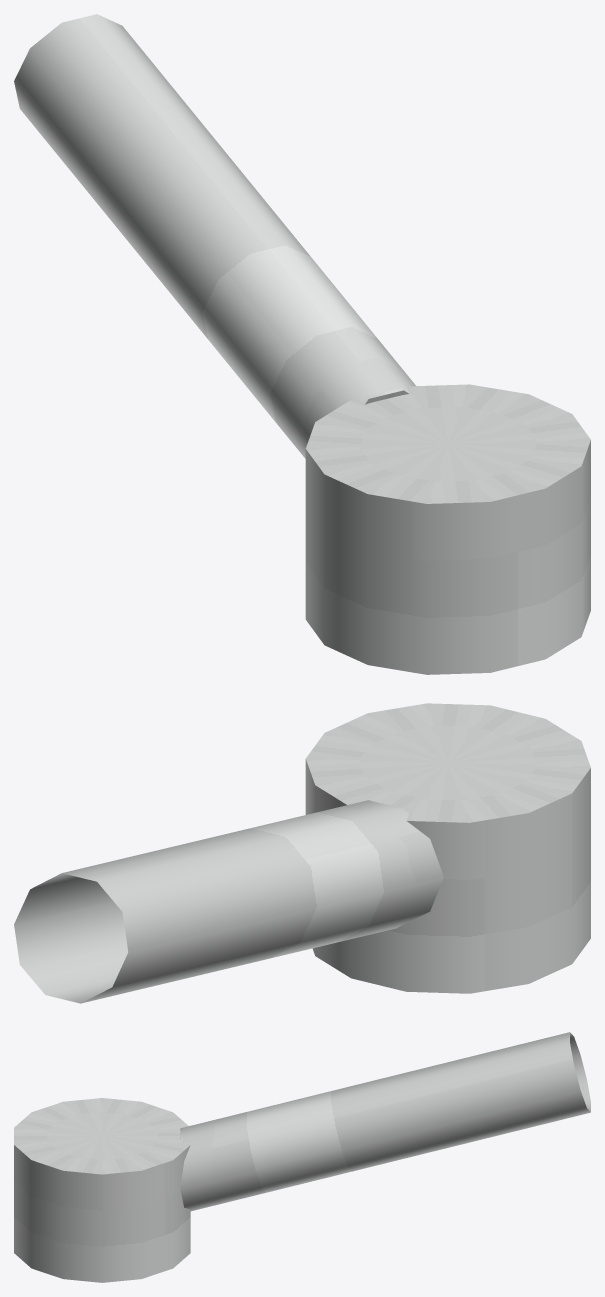
Rendered from trusssignalarm_sloped12_c1_thin.obj.
3 renders of one model, top to bottom at view 1: azimuth 30°, elevation 25°; view 2: azimuth 150°, elevation 25°; view 3: azimuth 270°, elevation 25°, orthographic. The views are drawn at different scales.
Visible parts, largest first — view 1: trusssignalarm_sloped12_c1_thin; view 2: trusssignalarm_sloped12_c1_thin; view 3: trusssignalarm_sloped12_c1_thin.
Part boxes in pixels (x1,y1,x2,y2): trusssignalarm_sloped12_c1_thin: (14,14,590,674); trusssignalarm_sloped12_c1_thin: (14,703,590,1003); trusssignalarm_sloped12_c1_thin: (14,1032,590,1282).
Bounding box in the file's own units: 0.5688 × 0.7167 × 1.81.
